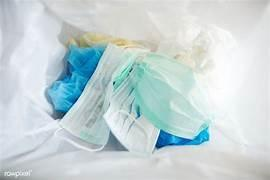Mask: (104, 51, 207, 152), (114, 52, 210, 138), (134, 53, 209, 138), (59, 45, 122, 146), (104, 76, 159, 153), (47, 45, 105, 112), (70, 32, 139, 47), (156, 128, 208, 147)
